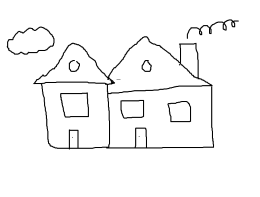clouds: (6, 25, 56, 57)
door: (129, 124, 153, 151), (64, 125, 83, 151)
open_window: (58, 90, 91, 120), (165, 99, 195, 126), (116, 96, 149, 120)
roof: (105, 36, 212, 93), (33, 42, 117, 85)
smoking_chimney: (175, 13, 249, 78)
wall: (103, 82, 216, 155)
